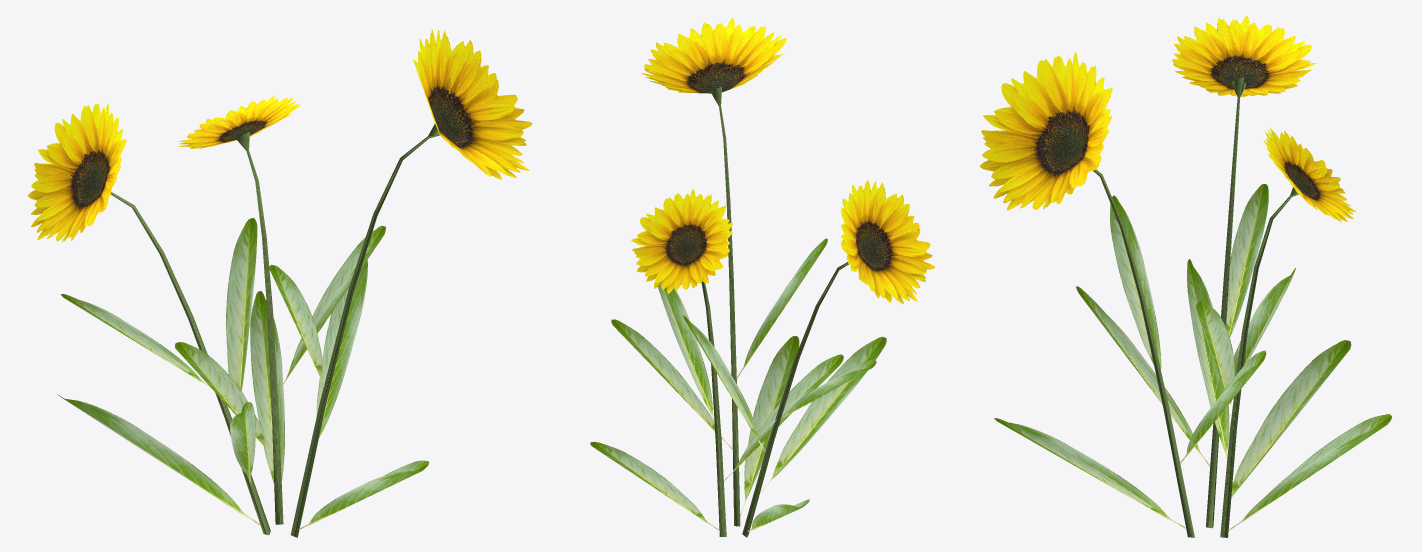
File: sunflower.glb
The picture shows the model from 3 angles, left to right: view 1: azimuth 30°, elevation 25°; view 2: azimuth 150°, elevation 25°; view 3: azimuth 270°, elevation 25°; orthographic projection. The views are drawn at different scales.
Visible parts, largest first — view 1: tree.002; view 2: tree.002; view 3: tree.002.
Part boxes in pixels (bbox=[...]): tree.002: bbox=[28, 29, 532, 537]; tree.002: bbox=[590, 18, 934, 537]; tree.002: bbox=[979, 16, 1392, 537].
Size of the model in its own units: 68.92 by 83.95 by 64.76.
Materials: 3 (3 with a texture image).
